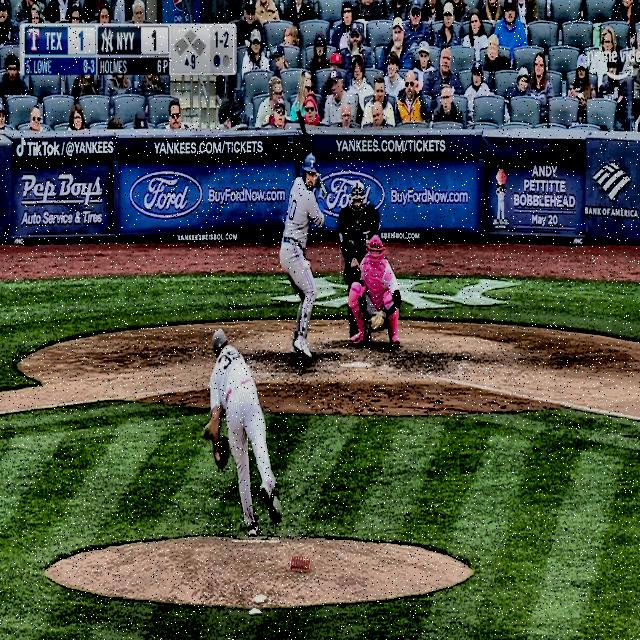baseball: (302, 259, 311, 271)
